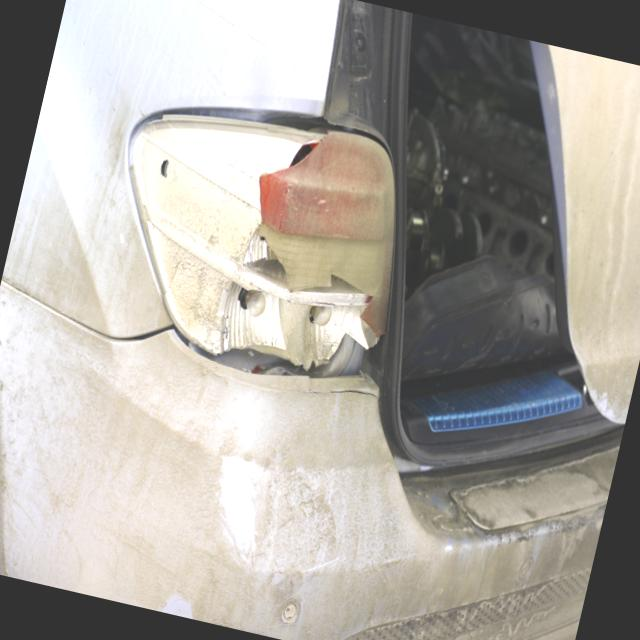Phare abime: (80, 74, 432, 400)
